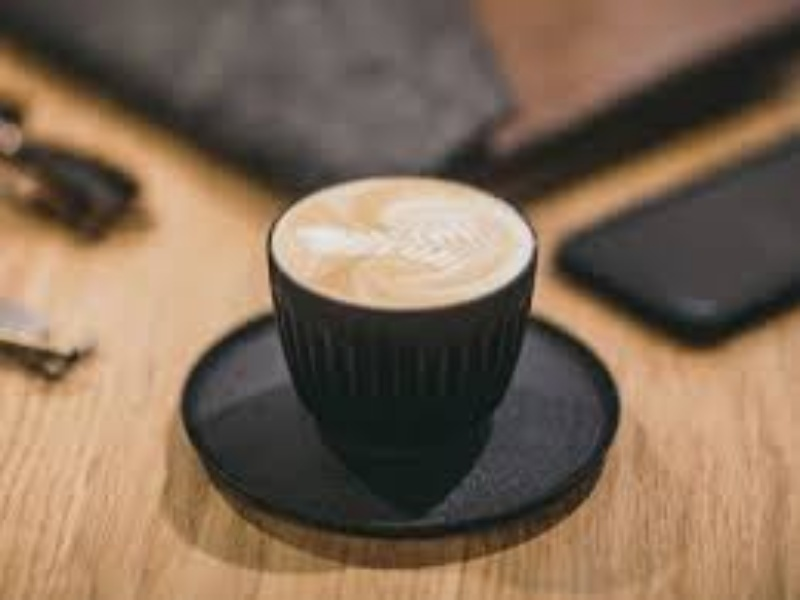cup: (245, 145, 554, 450)
